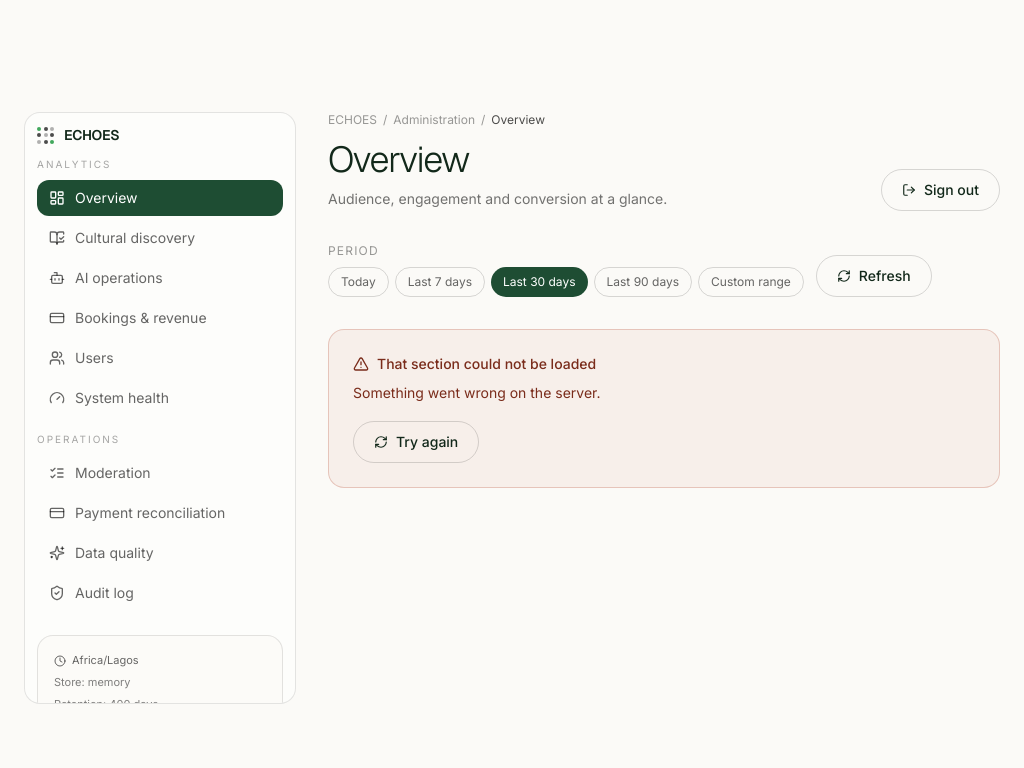
Test: errors and empty states › reports a failed section with a retry that works
This screenshot has width=1024, height=768.
Expected: the button "Overview" is shown, [37,180,283,216]
Expected: the text "That section could not be loaded" is shown, [353,355,596,372]
Click the button "Try again".
click(416, 442)  # box [353,420,479,462]
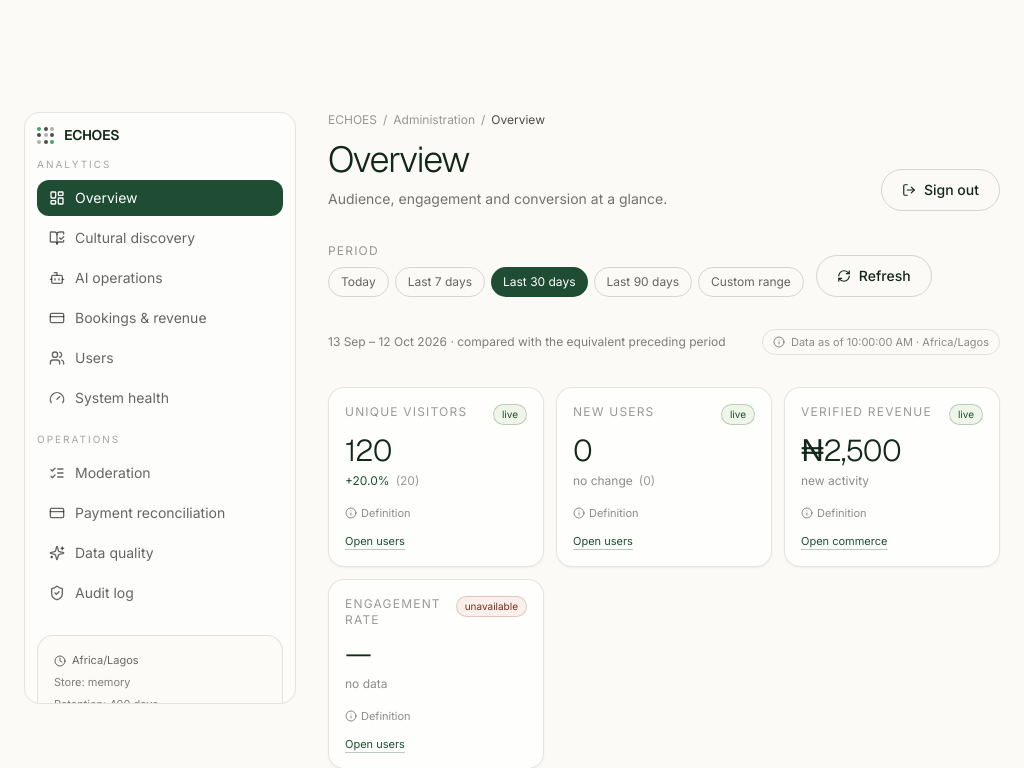
Expected: the text "Unique visitors" is shown, [345,404,467,420]
